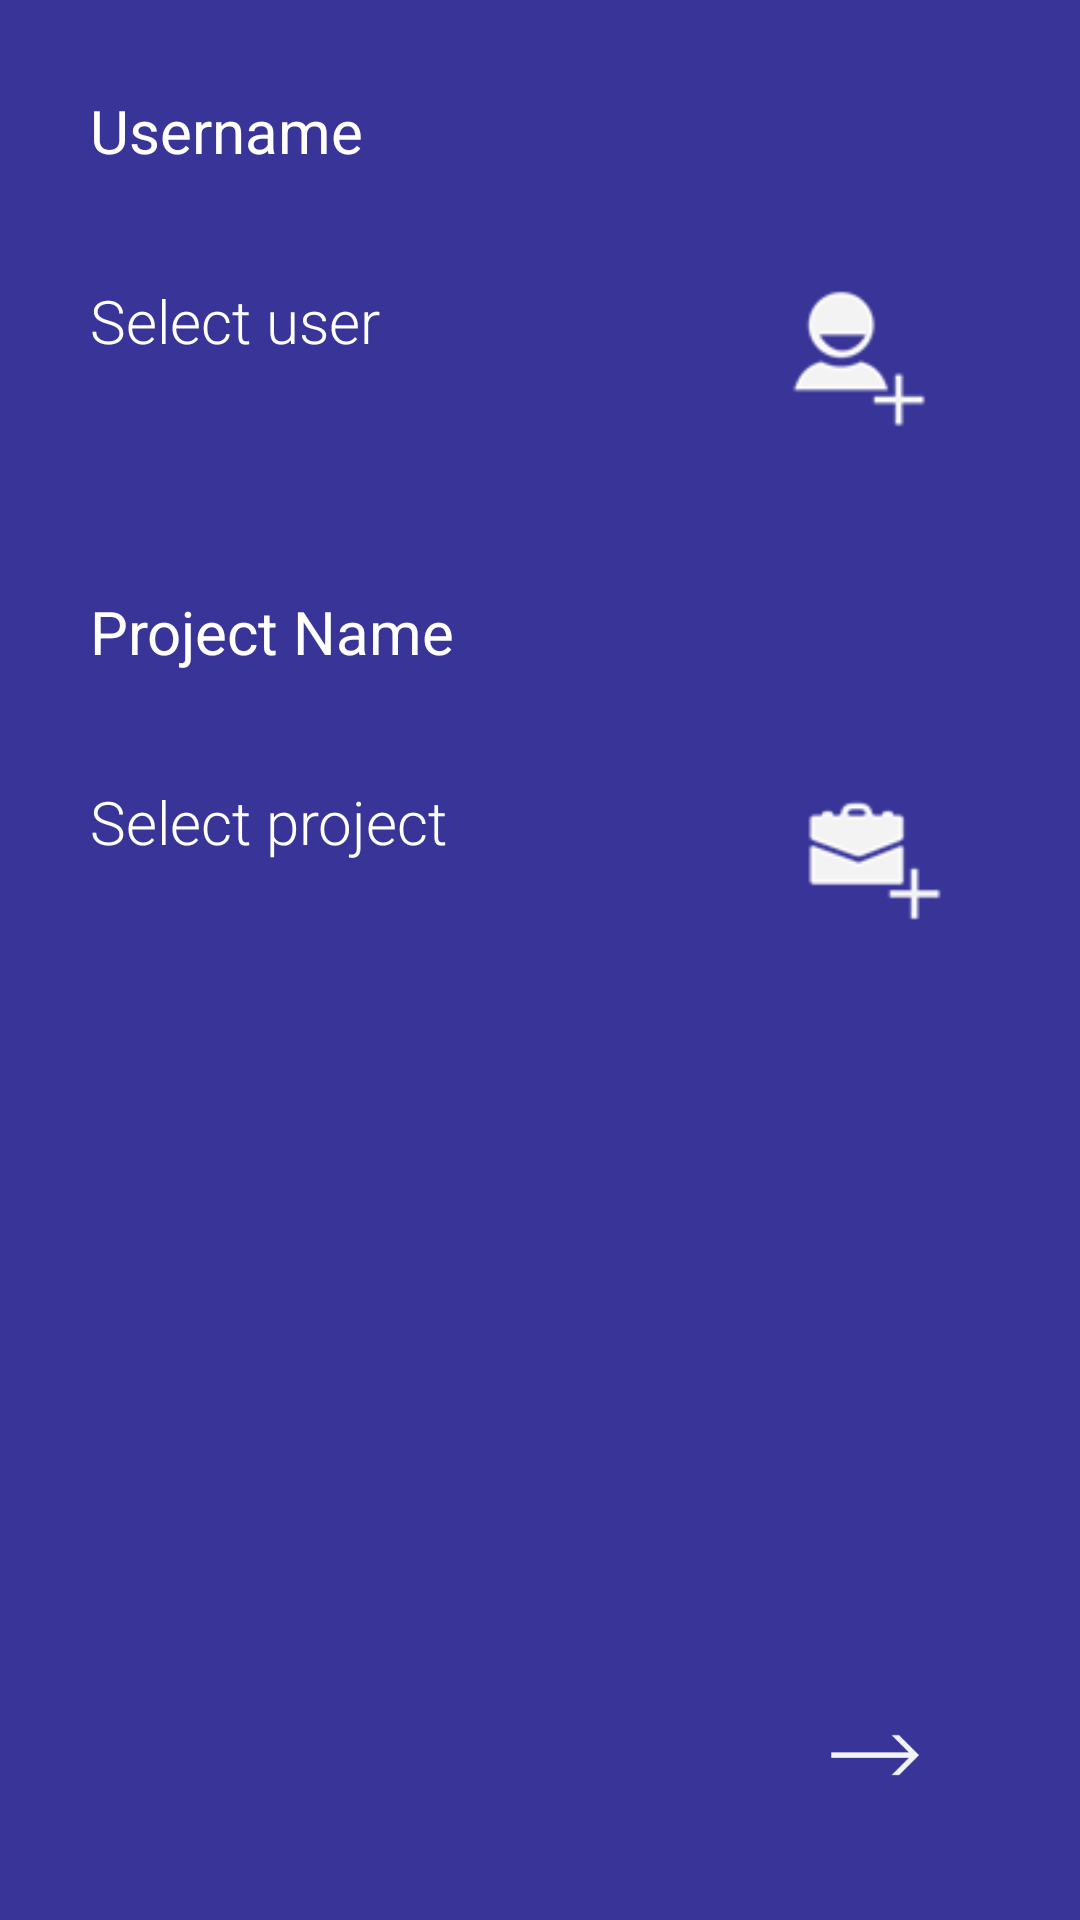

Screen size 1080px×1920px. Icon name, then its center in pixels as [x,y]:
Continue: [875,1755]
